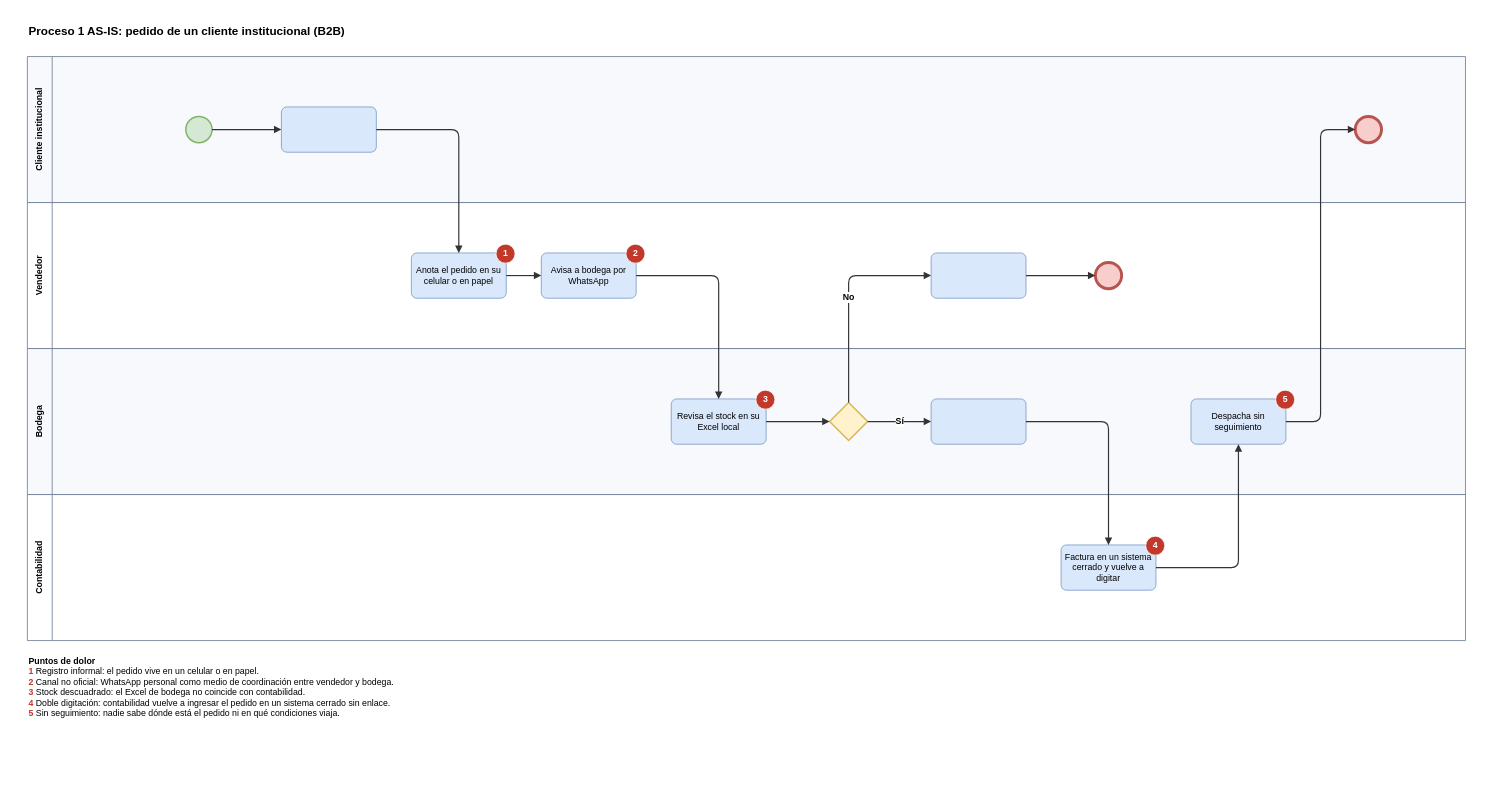
Some shapes in this 1492 by 799 pixel diagram are drawn without their labels. Each missing label, with the centre of its shape:
"Llama al cliente y renegocia" belongs at point 978,275.
"Llama o envía un correo con el pedido" belongs at point 328,129.
"Necesita abastecerse" belongs at point 198,129.
"Pedido perdido o ajustado" belongs at point 1108,275.
"Pedido recibido" belongs at point 1368,129.
"Prepara el pedido" belongs at point 978,421.
"¿Hay stock?" belongs at point 848,421.
